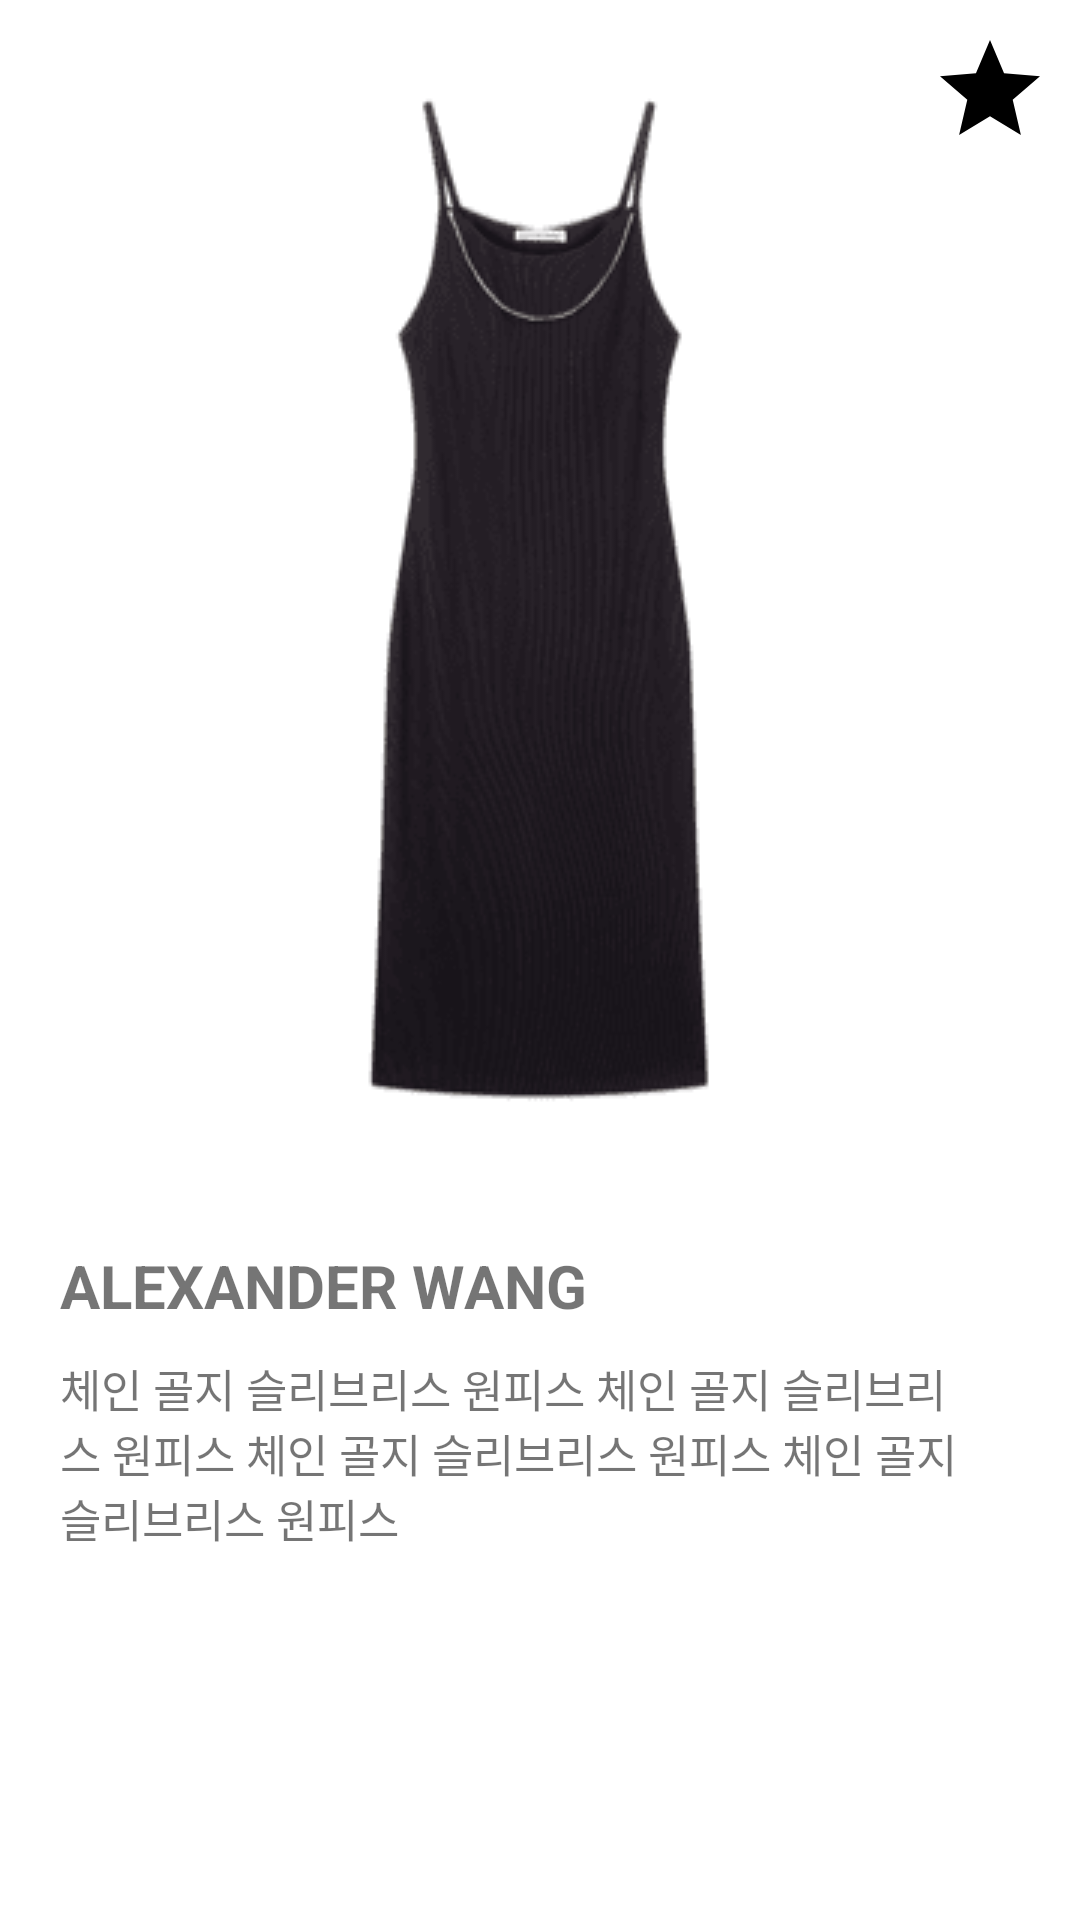

Point at icon controls on the screen. Image size 1080px×1920px, points as (x=x, y=y).
star: (x=990, y=87)
